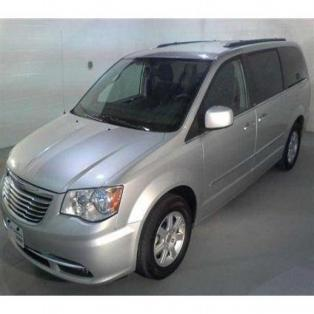Auto: (1, 38, 312, 292)
